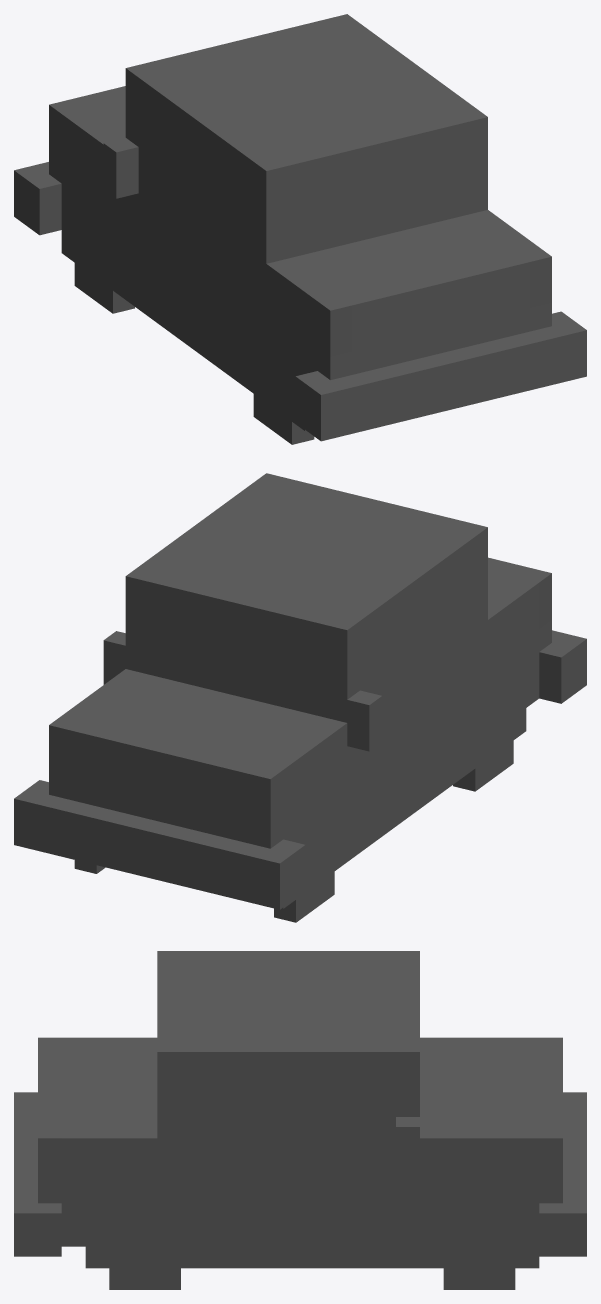
File: veh_mini3.obj
3 renders of one model, top to bottom at view 1: azimuth 30°, elevation 25°; view 2: azimuth 150°, elevation 25°; view 3: azimuth 270°, elevation 25°, orthographic. The views are drawn at different scales.
Bounding box in the file's own units: 12 × 11 × 24.
